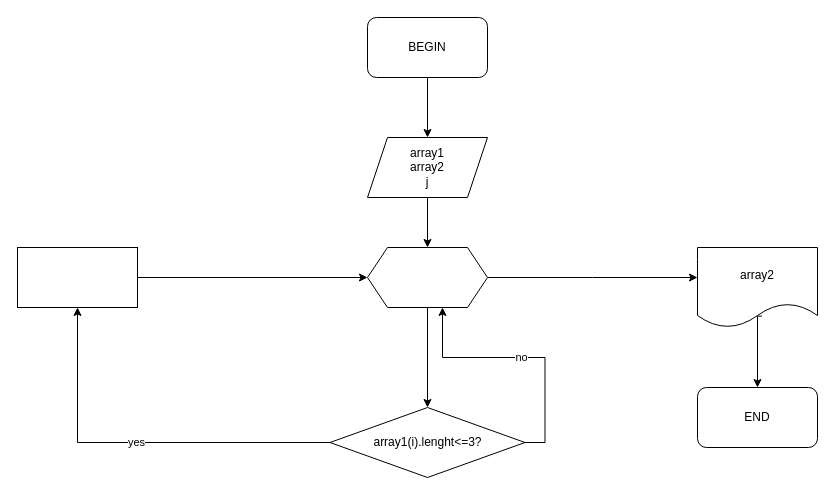
The diagram is 835 pixels wide and 495 high, and some of its shapes have lost their labels. The centre of each missing label's shape, as x and y in pixels:
array2[j] = array1[i]; j++;: pixel 77 277
for ( int i = 0; i< array1.Lenght; i++: pixel 427 277
